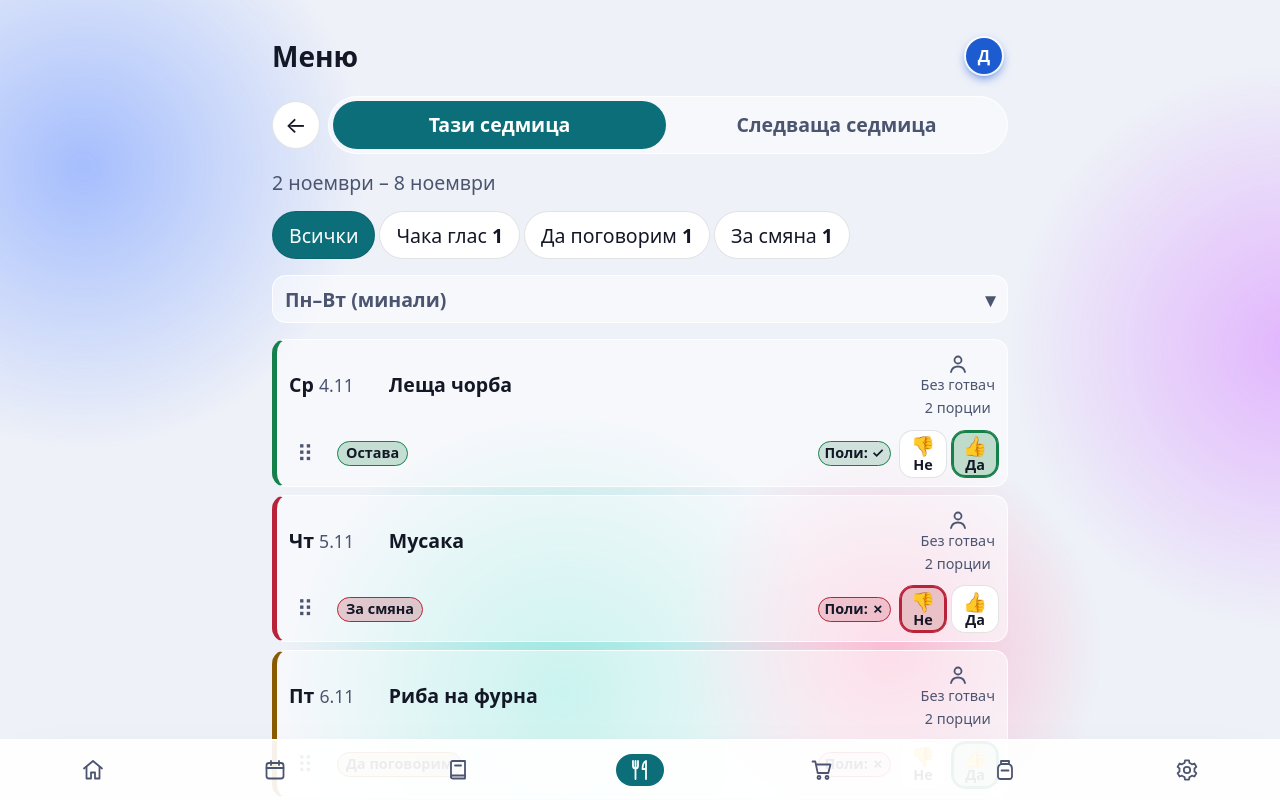
MenuWeek: гласове › филтрите броят изходите без миналите дни и показват само своите ястия
Click the button "Пн–Вт (минали) ▾".
click(366, 299)  # box [272,275,1008,323]
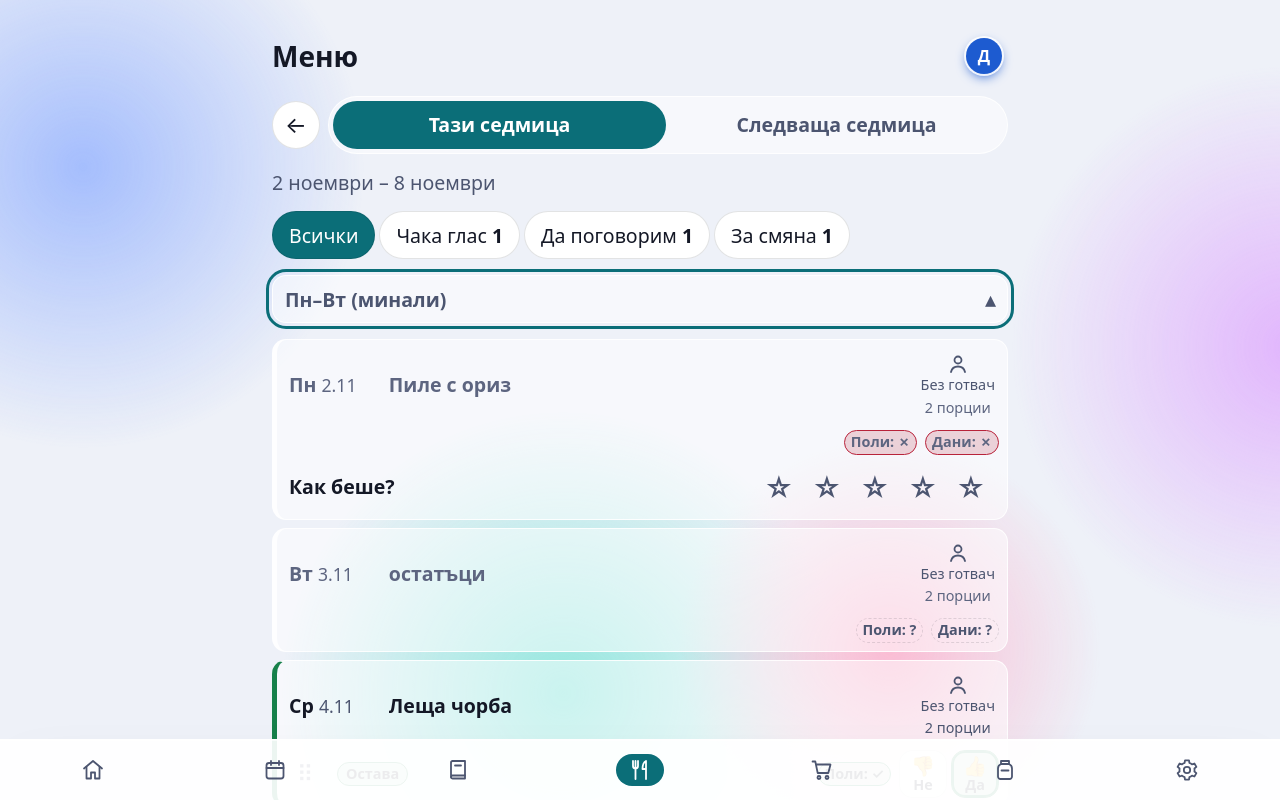
Expected: the button "Пн–Вт (минали) ▴" is expanded, [272,275,1008,323]
Click the tab "За смяна 1".
click(782, 235)  # box [714,211,850,259]
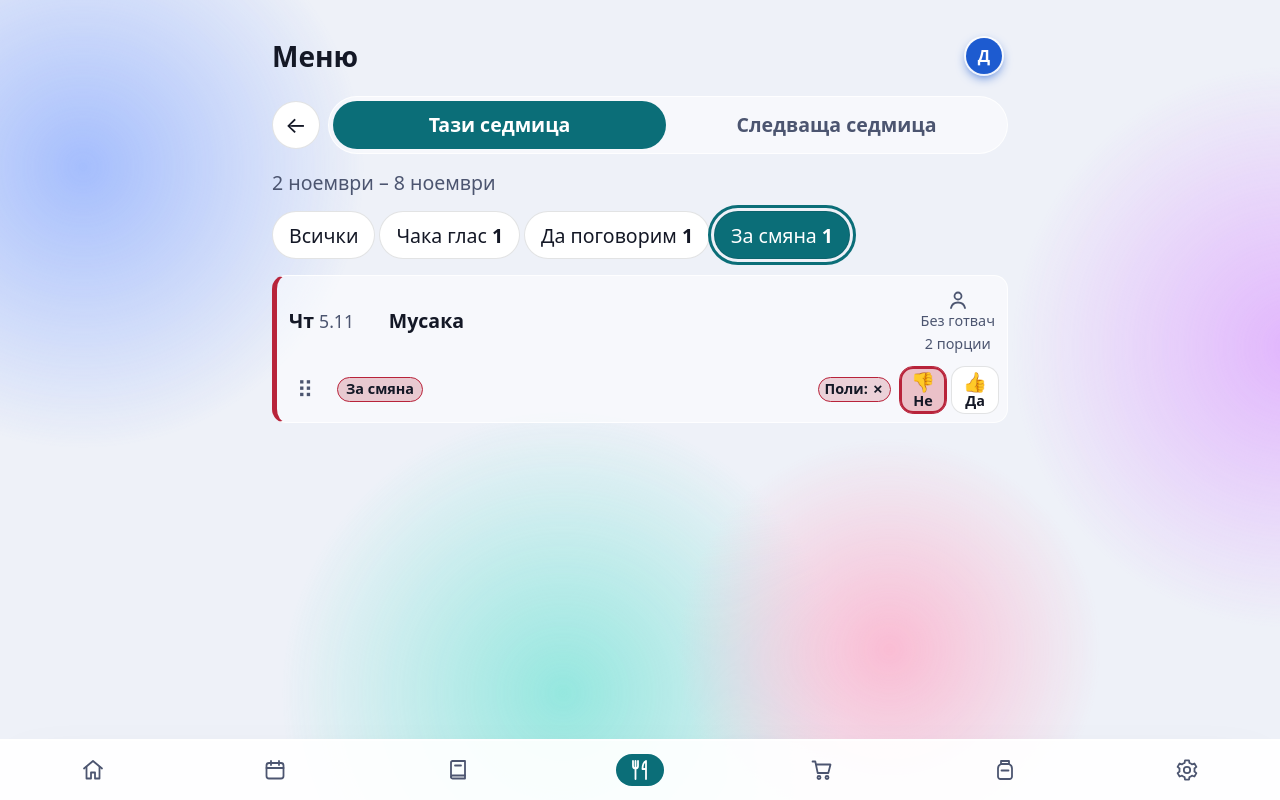
Click the tab "Чака глас 1".
click(450, 235)  # box [379,211,520,259]
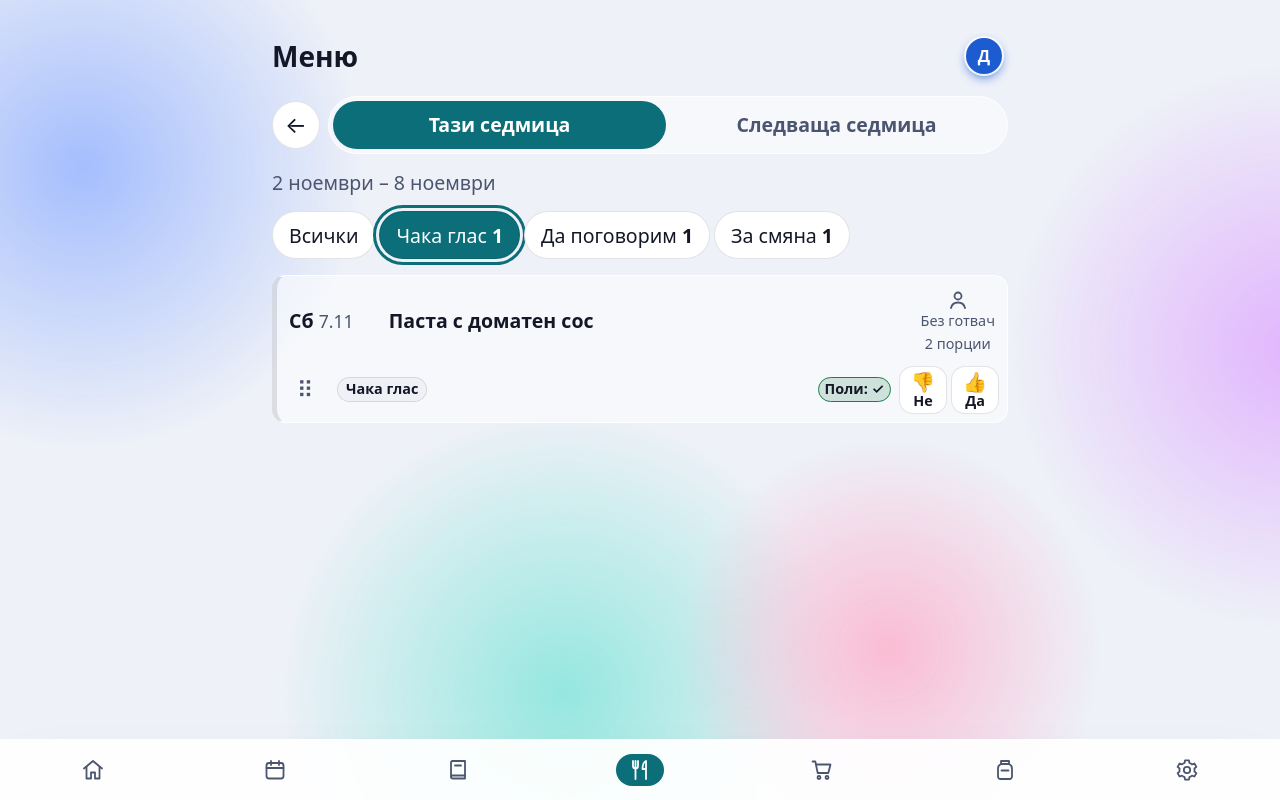
Click the tab "Да поговорим 1".
click(617, 235)  # box [524,211,710,259]
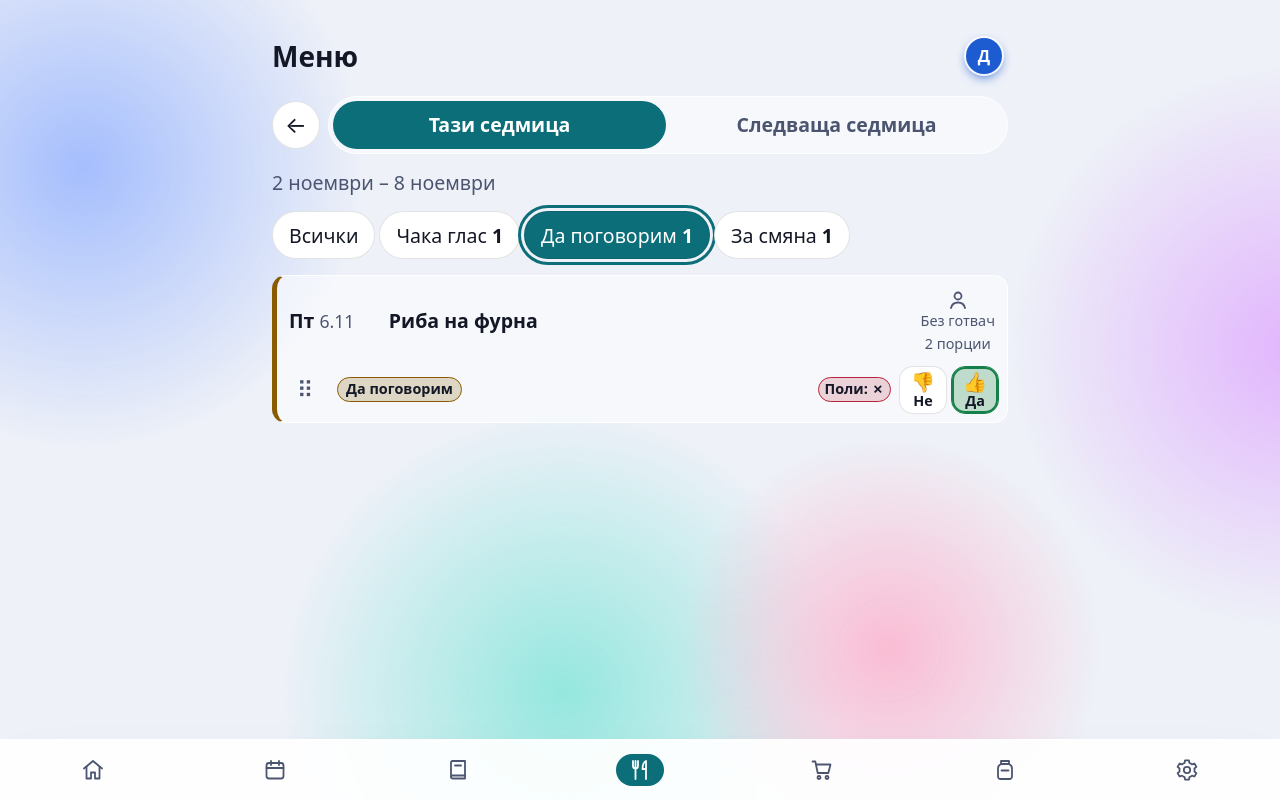
Expected: the list item that starts with "Риба на фурна" is shown, [277,276,1007,366]
